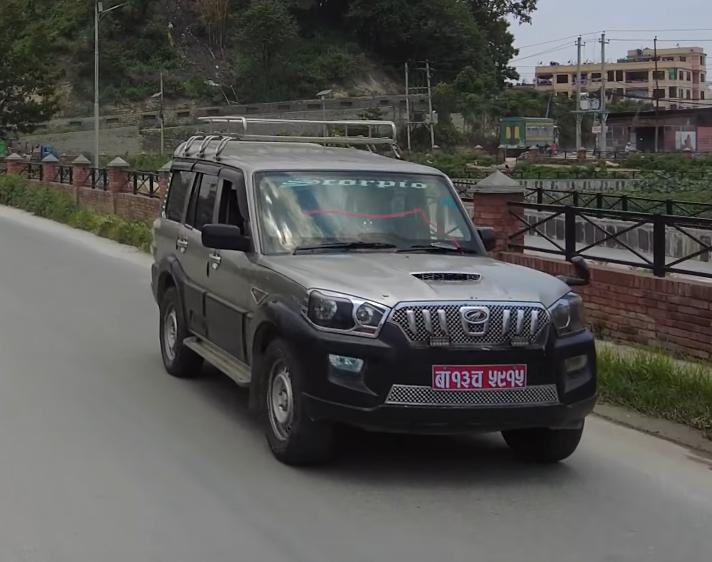SUV: (141, 107, 608, 489)
